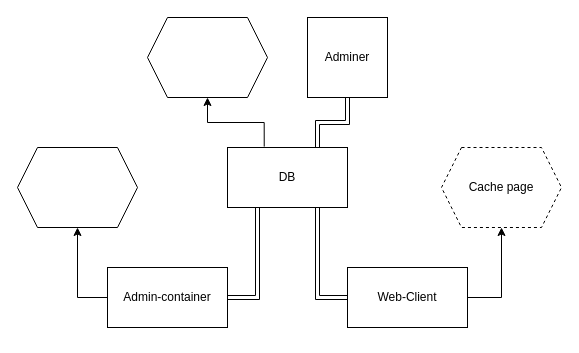
The diagram is 579 pixels wide and 353 high, and some of its shapes have lost their labels. Here are the shapes that lost their labels. From the top down, the centre of each, then its label:
the point at 207,57: db_data
the point at 77,187: - Plugin - Template
